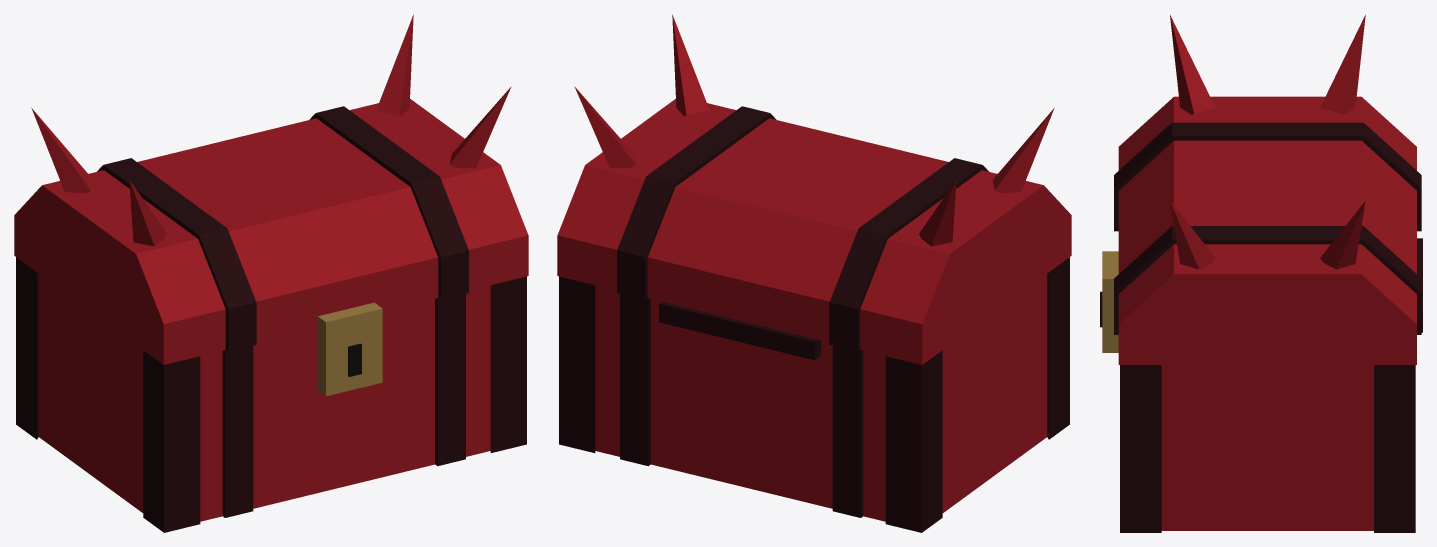
The model's file is chest_vampire.glb.
The picture shows the model from 3 angles, left to right: view 1: azimuth 30°, elevation 25°; view 2: azimuth 150°, elevation 25°; view 3: azimuth 270°, elevation 25°; orthographic projection.
Visible parts, largest first — view 1: lid, base, lock; view 2: lid, base; view 3: lid, base, lock.
Boxes of the visible parts, x1=… form: lid: x1=14, y1=14, x2=528, y2=364; base: x1=16, y1=257, x2=526, y2=532; lock: x1=317, y1=302, x2=382, y2=396; lid: x1=557, y1=14, x2=1071, y2=364; base: x1=559, y1=257, x2=1069, y2=532; lid: x1=1114, y1=15, x2=1421, y2=364; base: x1=1120, y1=238, x2=1422, y2=532; lock: x1=1100, y1=251, x2=1118, y2=352.
Size of the model in its own units: 1.08 by 0.912 by 0.791.
